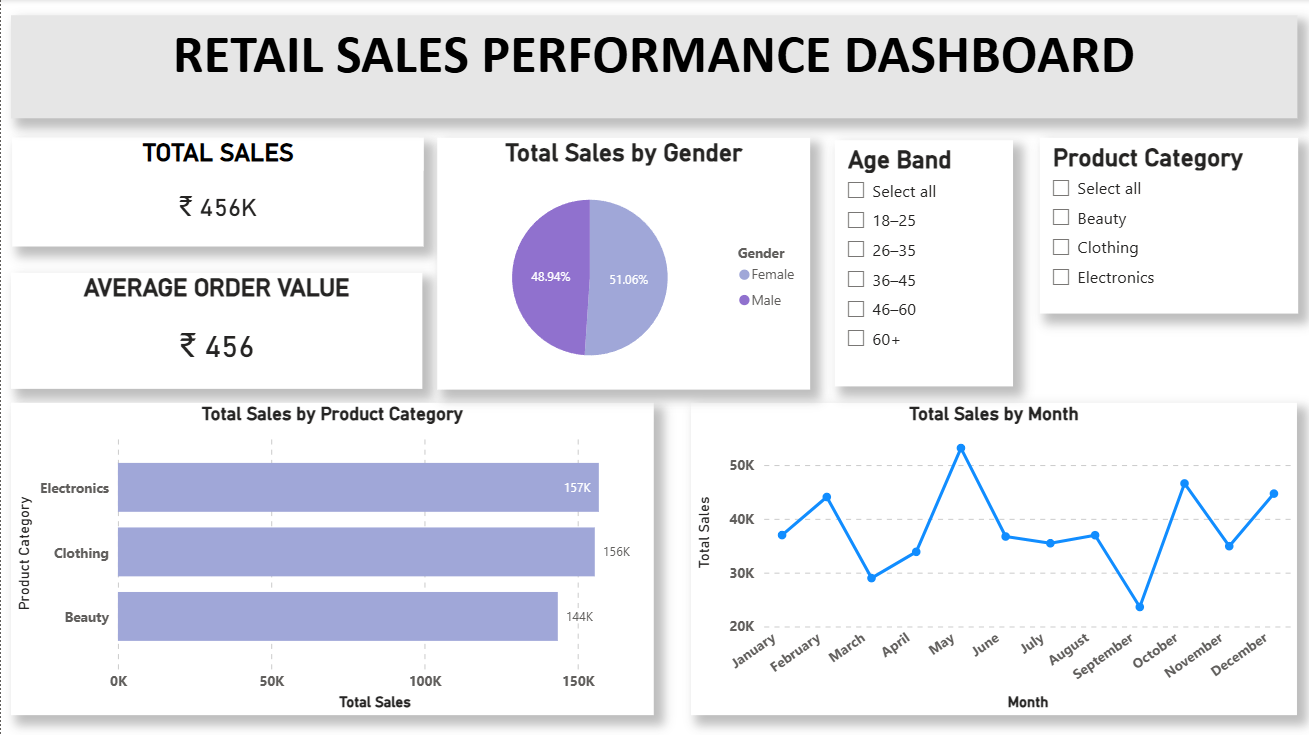

The dashboard page shown, as its layout file describes it:
{"tool":"powerbi","page":{"name":"Page 1","canvas":[1280,720],"ordinal":0},"visuals":[{"type":"card","title":"TOTAL SALES","fields":{"Values":["retail_sales_dataset.Total Sales"]},"box":[11.5,135.6,402.5,106.8],"z":0},{"type":"textbox","box":[10.1,15.9,1258.1,101],"z":1000},{"type":"card","title":"AVERAGE ORDER VALUE","fields":{"Values":["retail_sales_dataset.Average Order Value"]},"box":[10.1,268.4,402.5,114],"z":2000},{"type":"barChart","fields":{"Category":["retail_sales_dataset.Product Category"],"Y":["retail_sales_dataset.Total Sales"]},"box":[10.1,395.3,629,305.9],"z":3000},{"type":"lineChart","fields":{"Y":["retail_sales_dataset.Total Sales"],"Category":["retail_sales_dataset.Date.Variation.Date Hierarchy.Month"]},"box":[675.2,395.3,593,305.9],"z":4000},{"type":"pieChart","fields":{"Y":["retail_sales_dataset.Total Sales"],"Category":["retail_sales_dataset.Gender"]},"box":[427.1,135.6,365,246.7],"z":5000},{"type":"slicer","fields":{"Values":["retail_sales_dataset.Age Band"]},"box":[815.2,138.5,174.6,240.9],"z":6000},{"type":"slicer","fields":{"Values":["retail_sales_dataset.Product Category"]},"box":[1015.7,135.6,252.5,171.7],"z":7000}]}

Visuals, with their boxes in screenshot pixels (x1, y1, x2, y2), scaled from the page's 1280x720 canvas onto the 1309x735 screenshot:
"TOTAL SALES" card: (12,138,423,247)
textbox: (10,16,1297,119)
"AVERAGE ORDER VALUE" card: (10,274,422,390)
barChart - retail_sales_dataset.Product Category x retail_sales_dataset.Total Sales: (10,404,654,716)
lineChart - retail_sales_dataset.Total Sales x retail_sales_dataset.Date.Variation.Date Hierarchy.Month: (690,404,1297,716)
pieChart - retail_sales_dataset.Total Sales x retail_sales_dataset.Gender: (437,138,810,390)
slicer - retail_sales_dataset.Age Band: (834,141,1012,387)
slicer - retail_sales_dataset.Product Category: (1039,138,1297,314)
